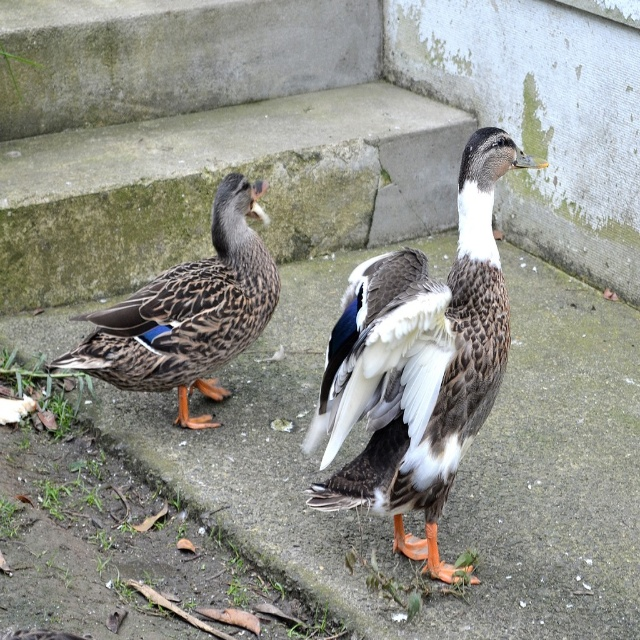Duck: (286, 122, 553, 580), (46, 169, 281, 426)
